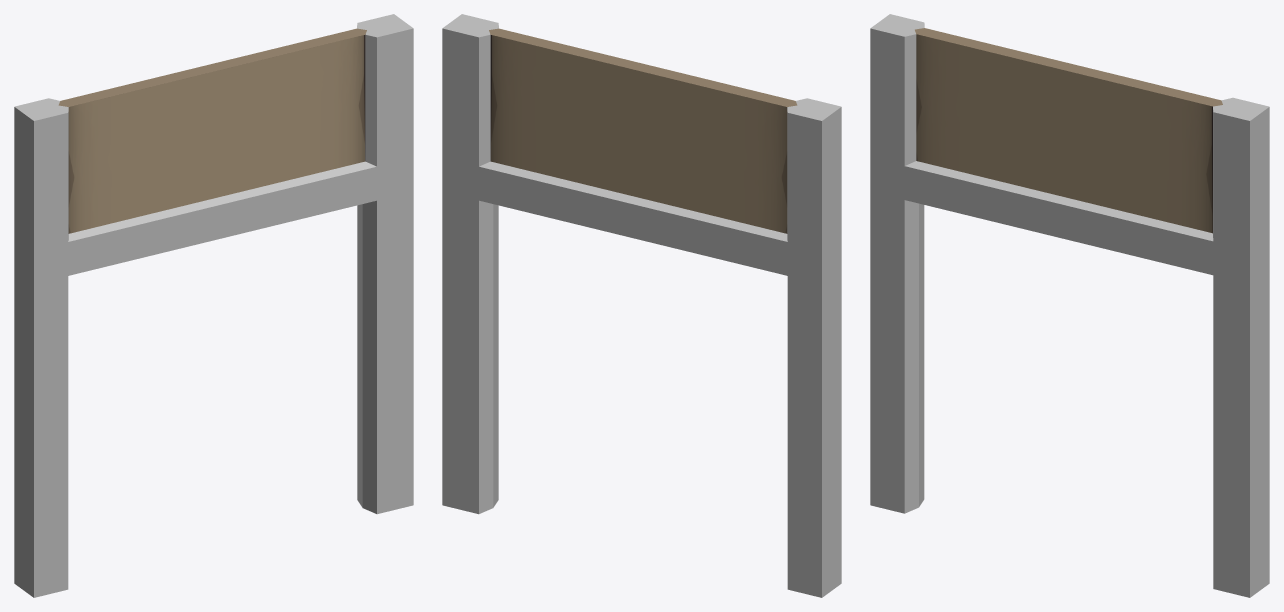
File: SM_Bld_Wall_Doorway_02.fbx
3 renders of one model, left to right at view 1: azimuth 30°, elevation 25°; view 2: azimuth 150°, elevation 25°; view 3: azimuth 330°, elevation 25°, orthographic.
Parts seen in each view (by area): view 1: SM_Bld_Wall_Doorway_02; view 2: SM_Bld_Wall_Doorway_02; view 3: SM_Bld_Wall_Doorway_02.
Part boxes in pixels (bbox=[...]): SM_Bld_Wall_Doorway_02: bbox=[14, 14, 413, 597]; SM_Bld_Wall_Doorway_02: bbox=[442, 14, 841, 597]; SM_Bld_Wall_Doorway_02: bbox=[870, 14, 1269, 597].
Bounding box in the file's own units: 250 × 300 × 22.5.
